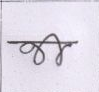i_matra: (47, 32, 65, 65)
